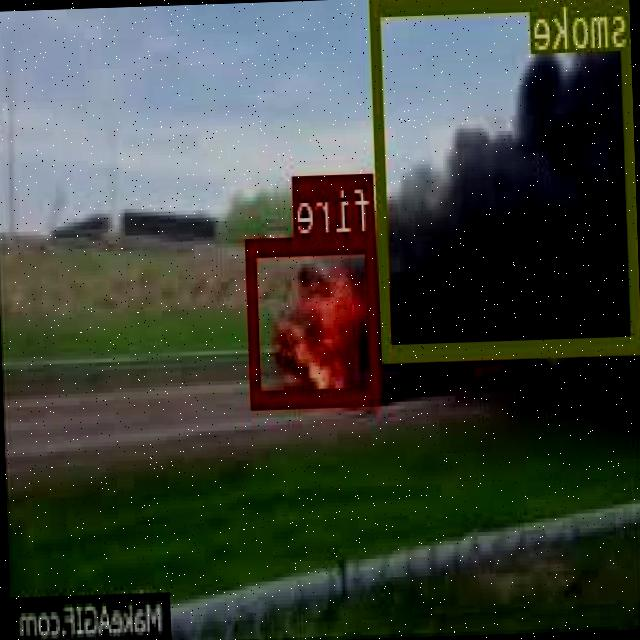fire: (247, 230, 381, 404)
smoke: (373, 0, 640, 356)
